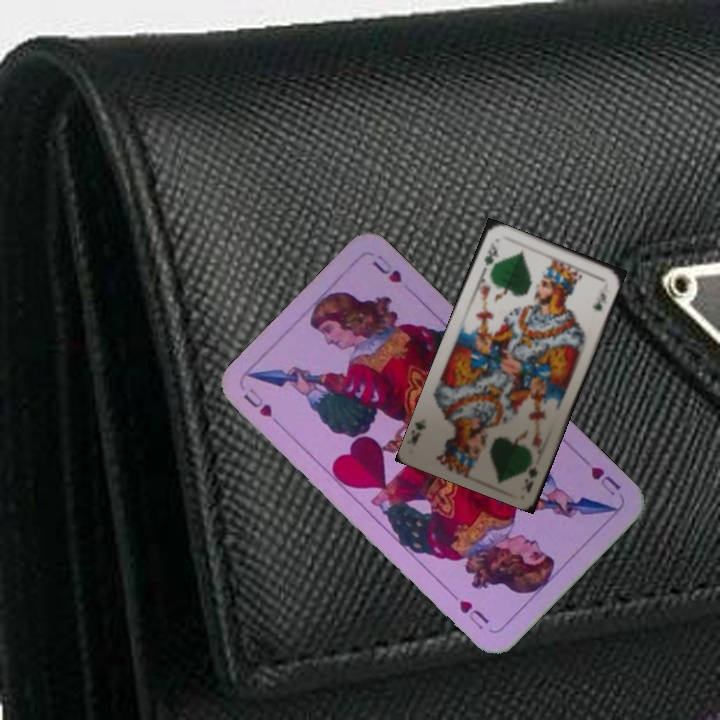GK: (480, 237, 500, 275), (521, 462, 541, 495)
HU: (239, 383, 286, 431), (587, 462, 624, 499)
